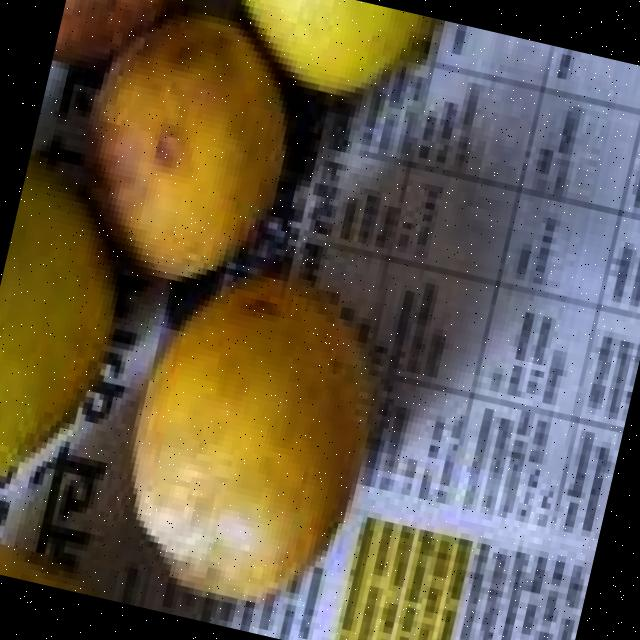Bad_Lime-0-1-day: (127, 274, 375, 608), (51, 0, 284, 279)
Good_Lime-10-21-days: (0, 162, 120, 468), (246, 0, 440, 102)
